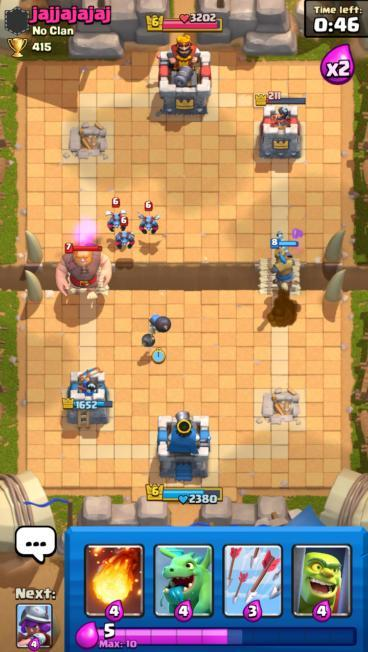ally_bomber: (143, 308, 174, 343)
ally_prince: (268, 236, 306, 310)
enemy_giant: (53, 240, 114, 301)
enemy_minion: (135, 199, 164, 238), (104, 196, 128, 233), (112, 216, 136, 250)
